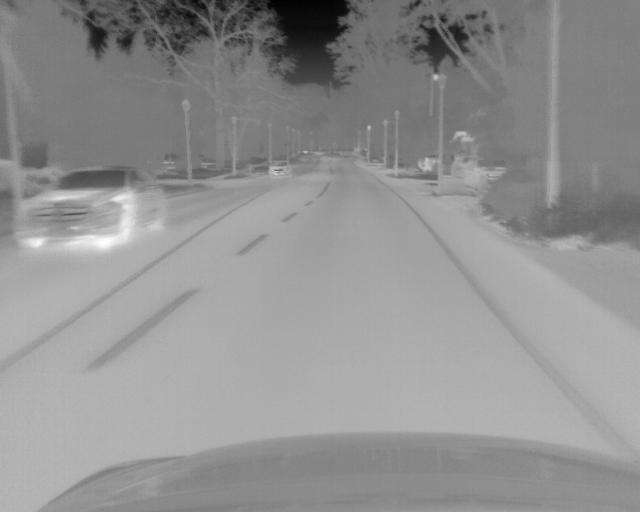car: (13, 163, 168, 250), (268, 159, 292, 177)
